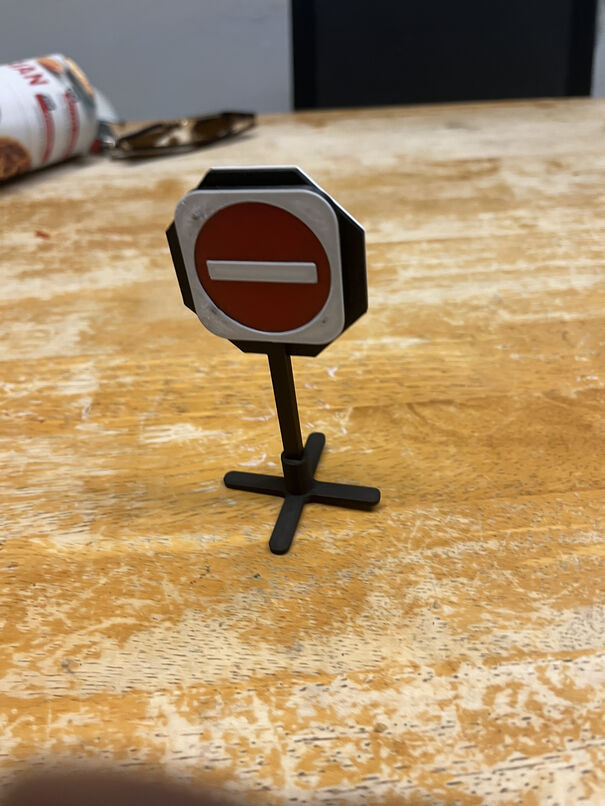sign_noentry: (174, 187, 351, 350)
